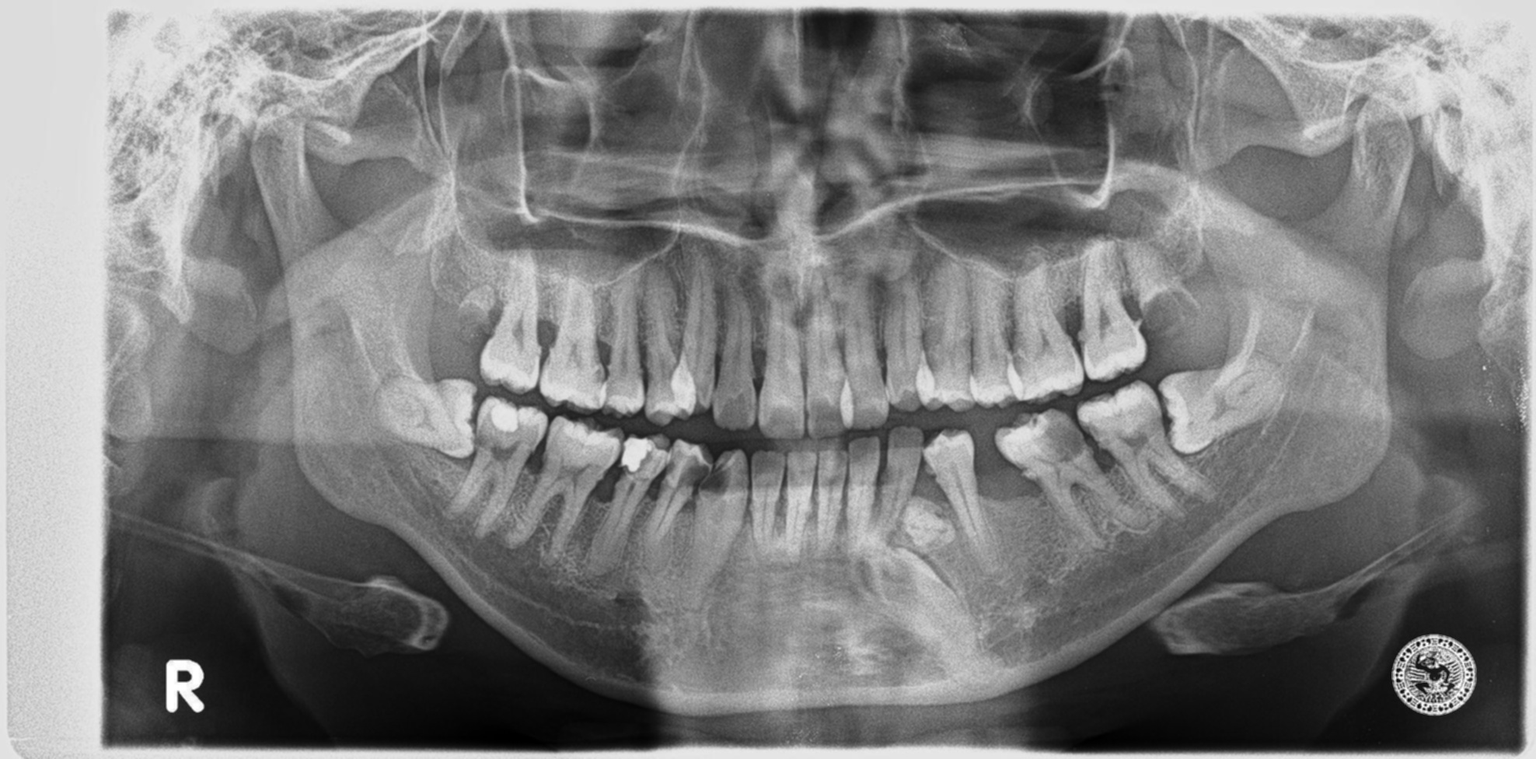Individual Tooth: (996, 409, 1148, 547), (1077, 381, 1215, 531), (507, 416, 621, 558), (449, 397, 547, 538), (1158, 355, 1285, 454), (587, 435, 671, 574), (1013, 266, 1083, 400), (1078, 241, 1145, 380), (916, 260, 974, 411), (923, 429, 988, 562), (541, 278, 606, 409), (644, 440, 711, 565), (481, 252, 540, 393), (641, 267, 693, 424), (802, 282, 854, 437), (379, 376, 476, 457), (759, 272, 805, 439), (1125, 243, 1200, 341), (692, 452, 748, 583), (671, 260, 717, 415), (840, 281, 888, 429), (884, 279, 937, 411), (969, 264, 1016, 407), (712, 296, 756, 428), (605, 279, 644, 414), (877, 427, 923, 536), (846, 437, 881, 540), (783, 449, 817, 555), (817, 446, 848, 551), (751, 451, 785, 544)
